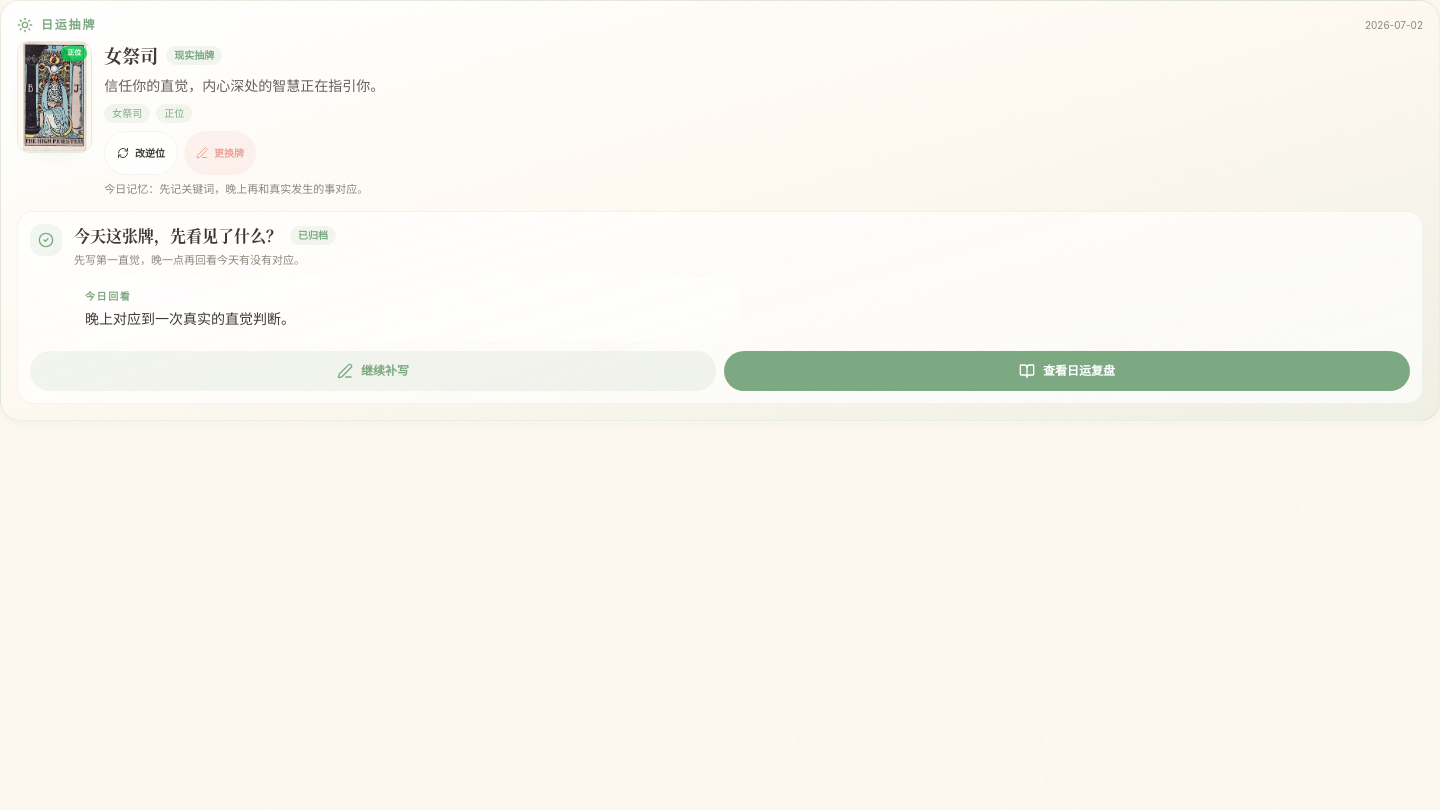
Test: DailyFortuneCard › shows archived status and opens the daily archive zone
The width and height of the screenshot is (1440, 810).
Expected: the text "已归档" is shown, [290,226,336,245]
Expected: the button "继续补写" is shown, [30,351,716,391]
What coordinates should you click on to do the following:
click the button with aria-label "打开日运复盘"
I would click on:
 (1067, 371)
Its box is [724,351,1410,391].
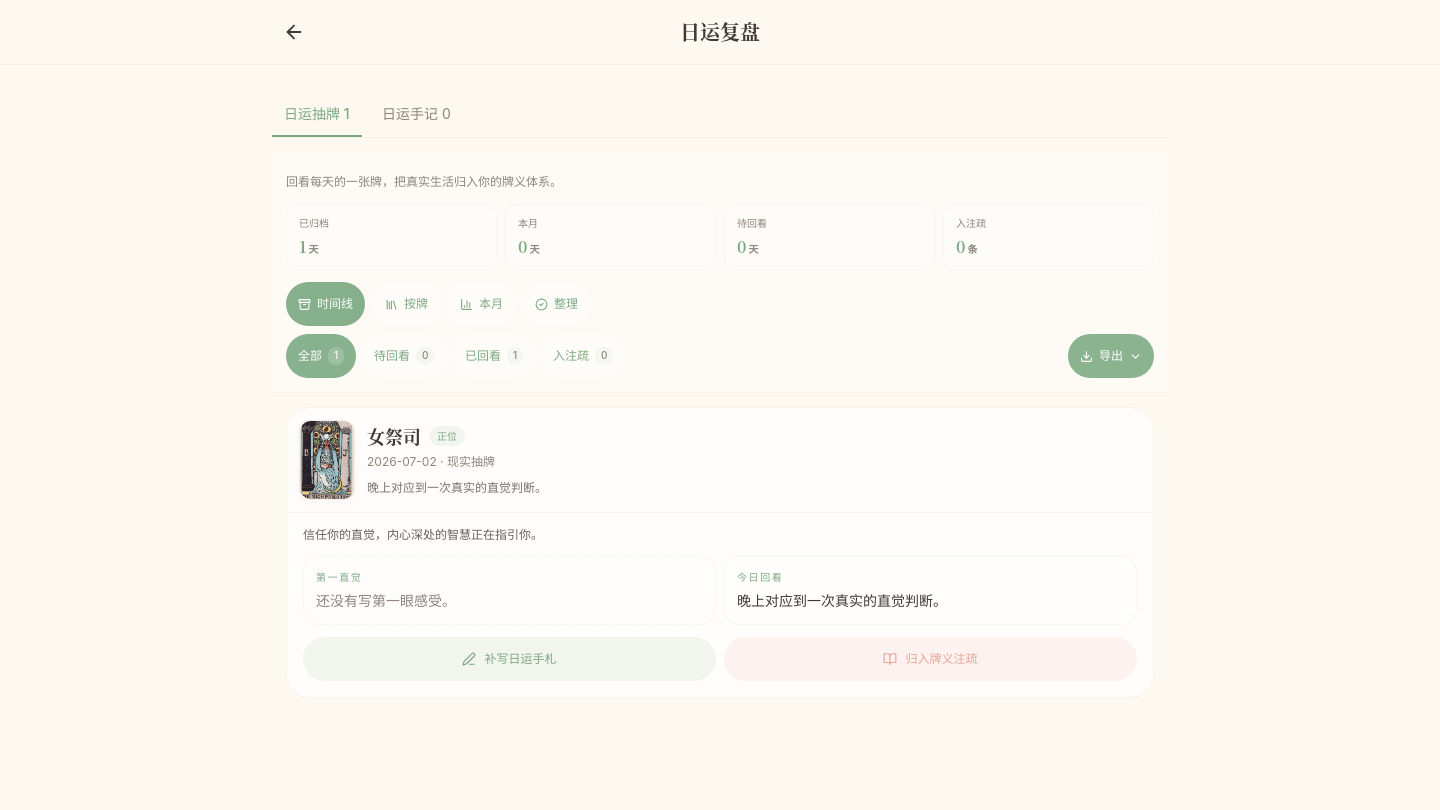
Expected: the element "日运复盘" is shown
Expected: the button "时间线" is shown, [286,282,365,326]
Expected: the button "按牌" is shown, [373,282,440,326]
